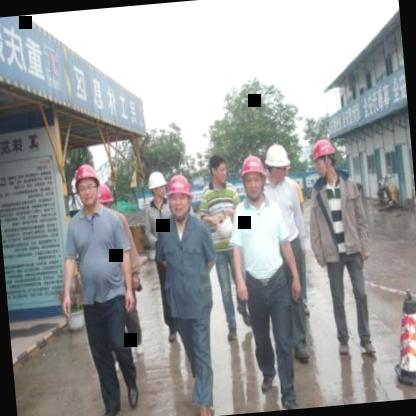head: (207, 150, 230, 188)
helmet: (72, 161, 102, 208), (166, 172, 196, 219), (308, 136, 339, 180), (238, 154, 266, 199), (263, 142, 292, 184), (146, 168, 170, 208), (94, 181, 116, 221)
